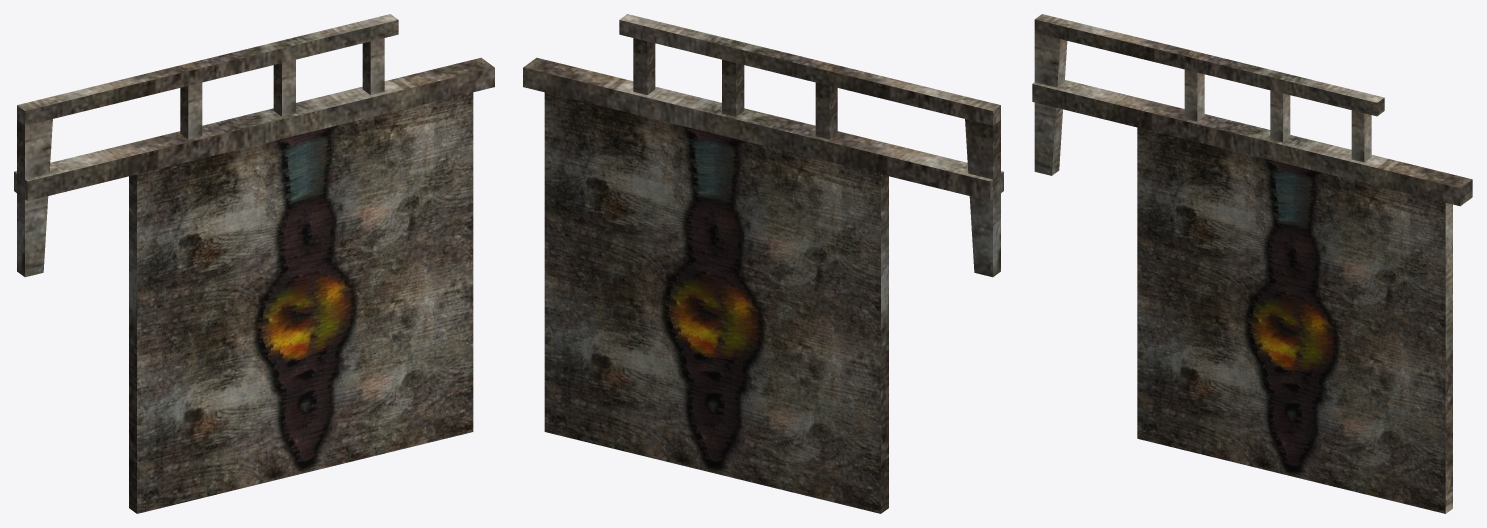
Rendered from signs_mage1.glb.
3 views of the same model, side by side, from view 1: azimuth 30°, elevation 25°; view 2: azimuth 150°, elevation 25°; view 3: azimuth 330°, elevation 25° (orthographic). The views are drawn at different scales.
Visible parts, largest first — view 1: mage1; view 2: mage1; view 3: mage1.
Boxes of the visible parts, <box> form: mage1: <box>14,14,494,513</box>; mage1: <box>523,14,1003,513</box>; mage1: <box>1032,14,1472,513</box>.
Size of the model in its own units: 3.12 by 2.75 by 0.1562.
2 materials, 2 textured.
